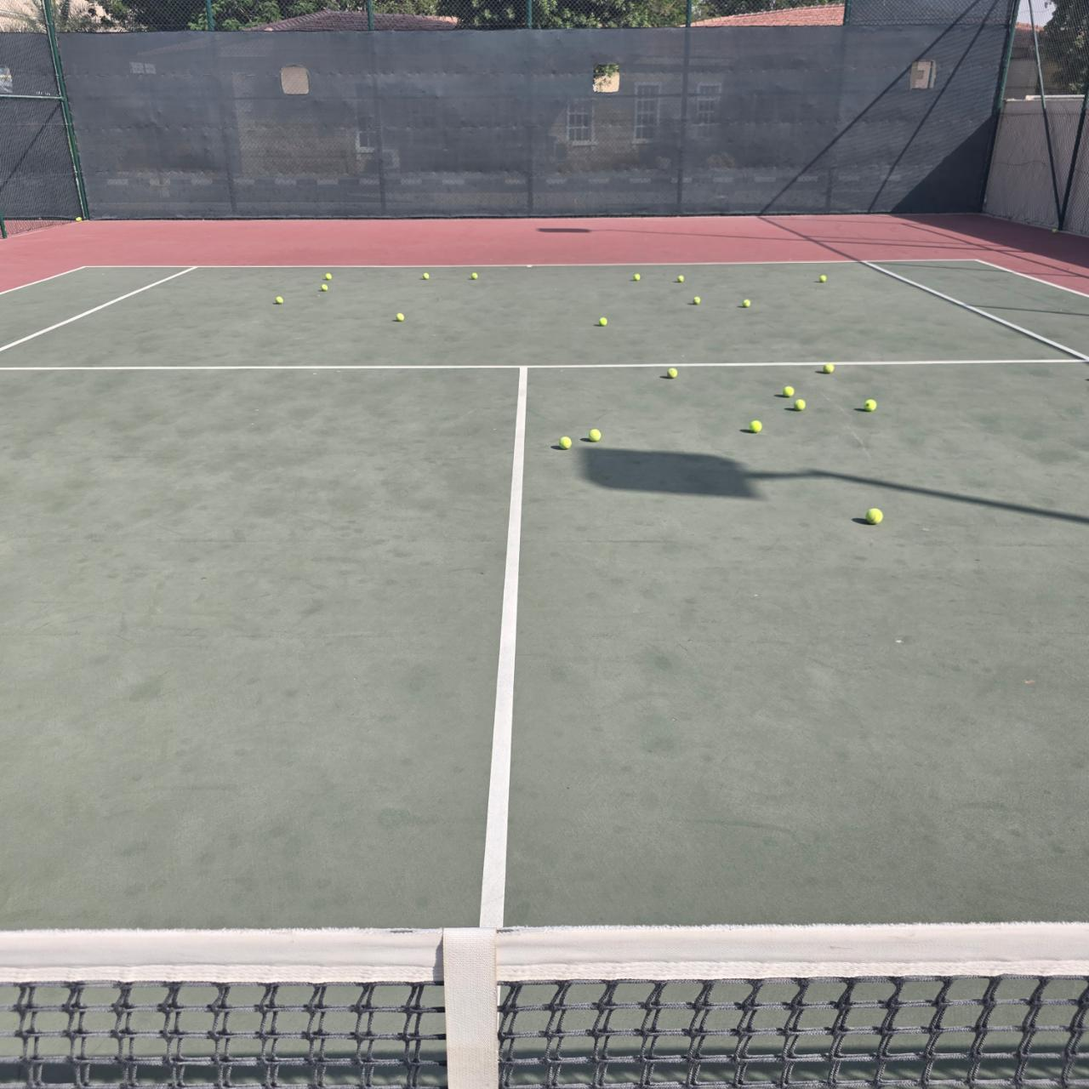tennis-ball: (865, 505, 882, 524), (587, 426, 602, 442), (558, 434, 572, 449), (748, 418, 762, 433), (793, 398, 807, 412), (864, 396, 876, 411), (781, 384, 794, 397), (665, 365, 677, 379), (822, 363, 835, 374), (396, 312, 405, 322), (599, 317, 608, 326), (692, 296, 701, 305), (324, 273, 333, 281), (819, 274, 827, 283), (275, 296, 283, 304), (471, 272, 478, 281), (321, 284, 328, 292), (633, 273, 640, 281), (743, 299, 750, 307), (677, 275, 684, 282), (422, 273, 429, 279), (76, 216, 82, 222), (1051, 228, 1058, 233)
